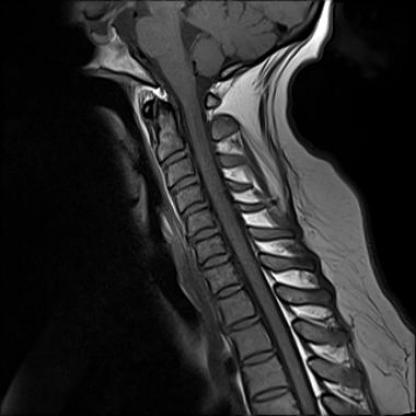Disc Herniationrotation: (185, 227, 223, 244)
Disc Protrusionrotation: (169, 175, 201, 194)
